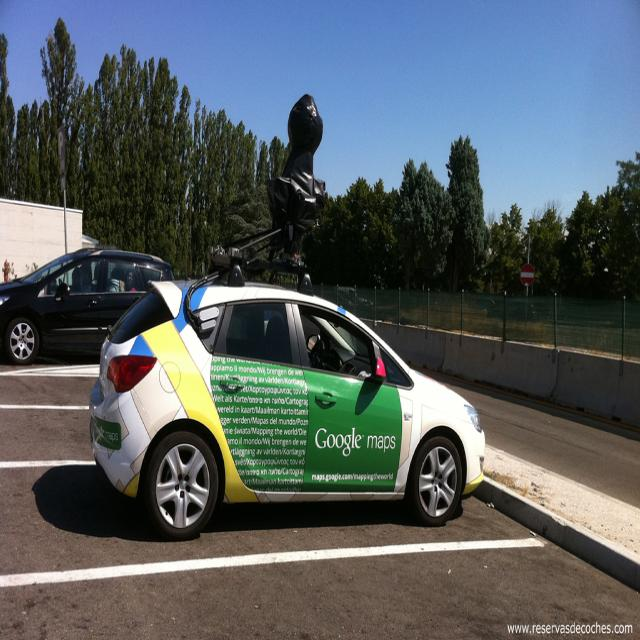car: (81, 271, 490, 543)
